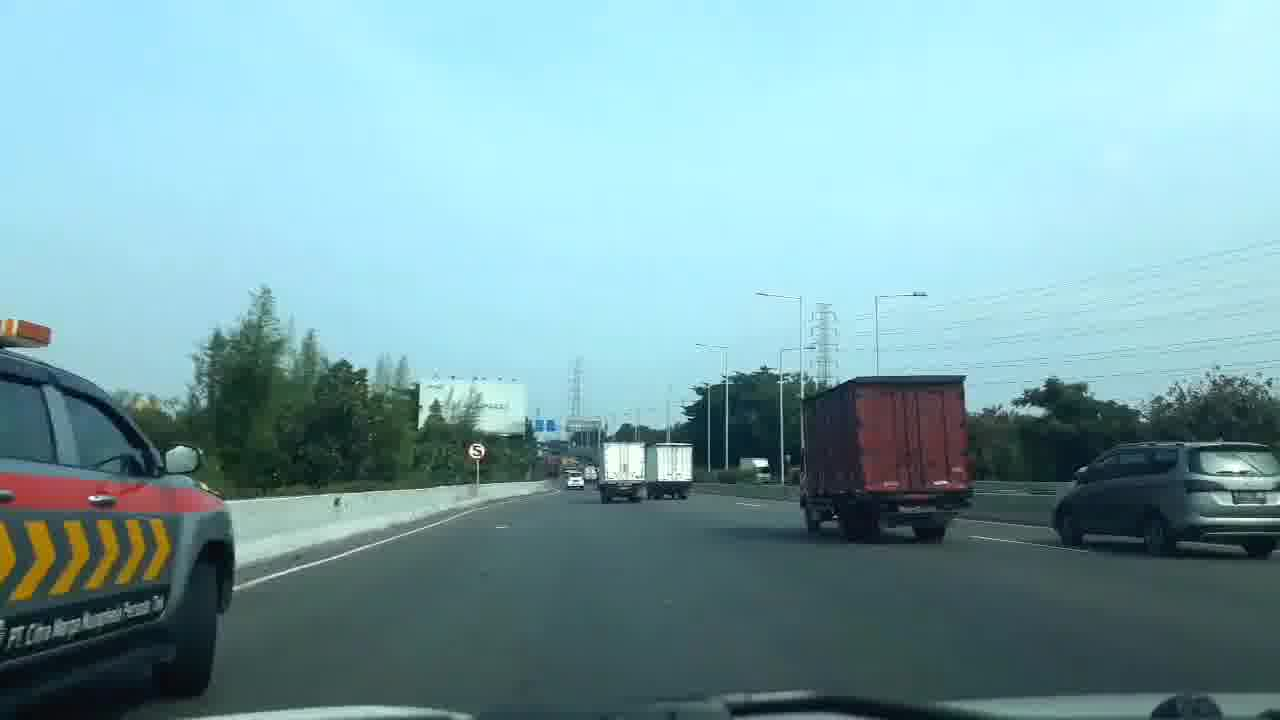plate_positive: (1233, 490, 1267, 503), (897, 503, 937, 514)
